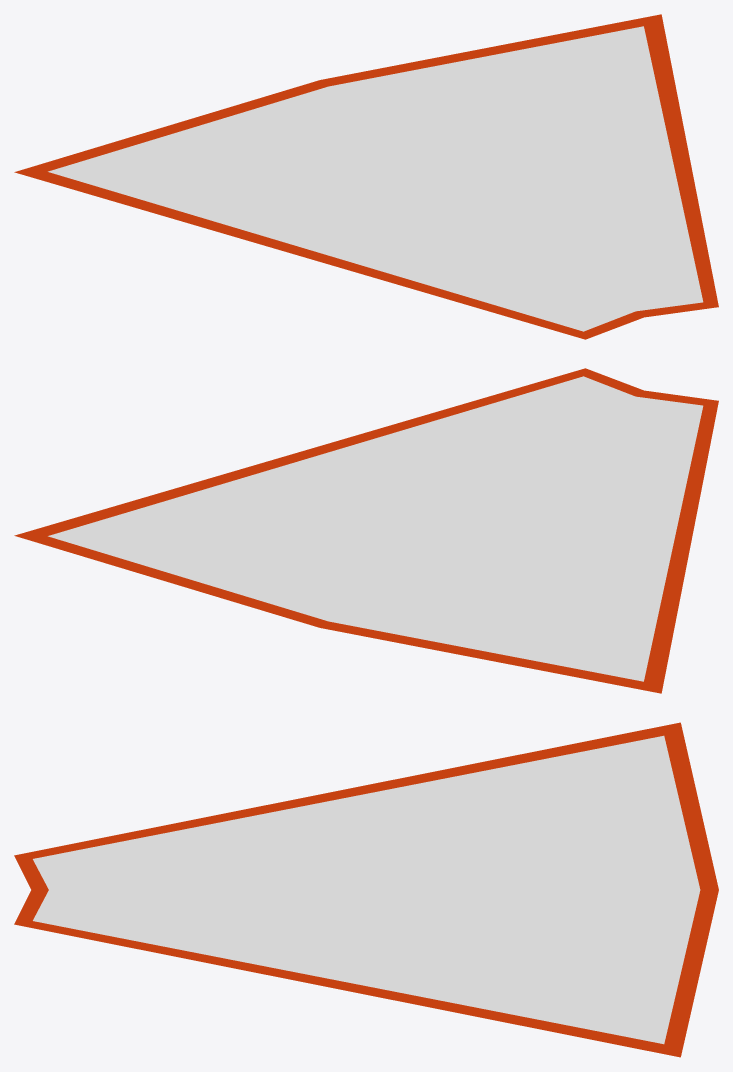
File: Range.fbx
The picture shows the model from 3 angles, top to bottom: view 1: azimuth 30°, elevation 25°; view 2: azimuth 150°, elevation 25°; view 3: azimuth 270°, elevation 25°; orthographic projection. The views are drawn at different scales.
Parts seen in each view (by area): view 1: Range; view 2: Range; view 3: Range.
Boxes of the visible parts, x1,y1,x2,y2 form: Range: (14,14,718,339); Range: (14,368,718,693); Range: (14,722,718,1057).
Bounding box in the file's own units: 2.07 × 3e-07 × 1.84.
